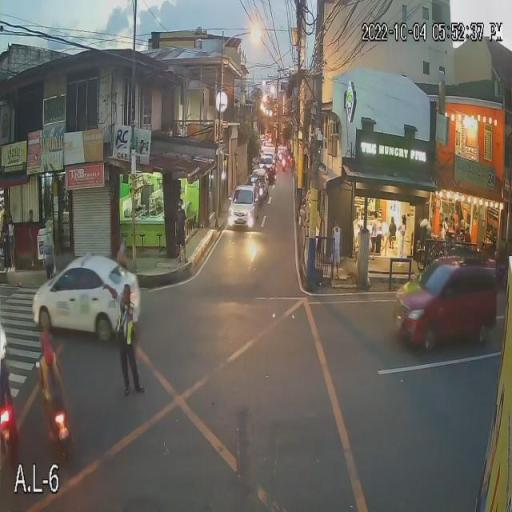helmet: (34, 330, 55, 352)
motorcycle: (34, 401, 76, 452), (0, 408, 21, 458)
rider: (27, 327, 67, 409)
